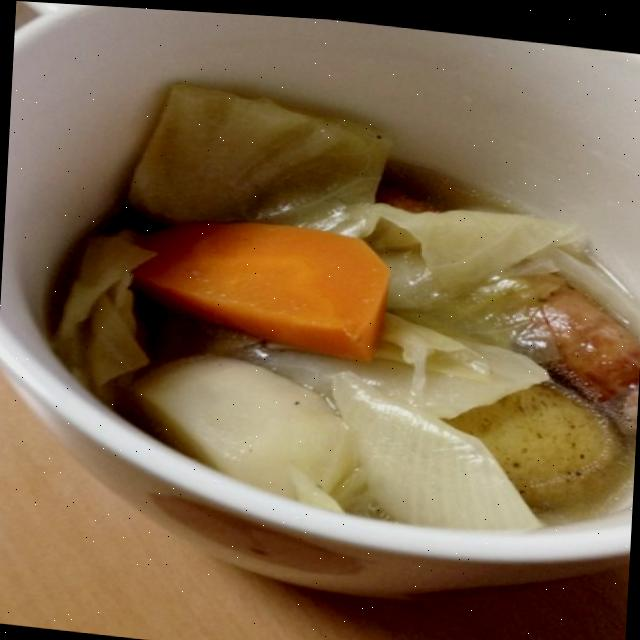汤锅炖物: (7, 12, 640, 580)
